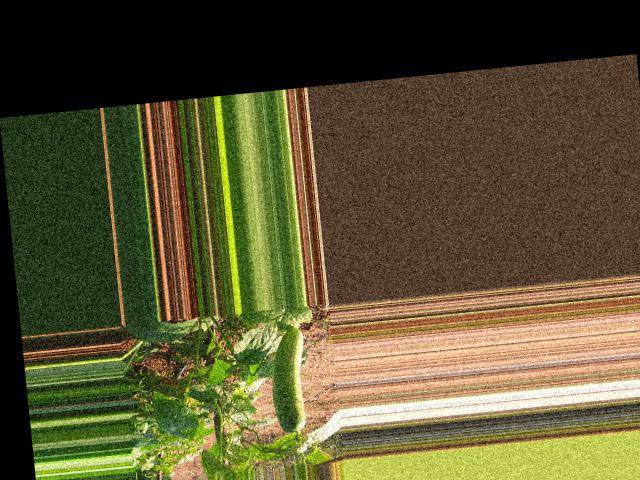cucumber: (266, 327, 312, 433)
